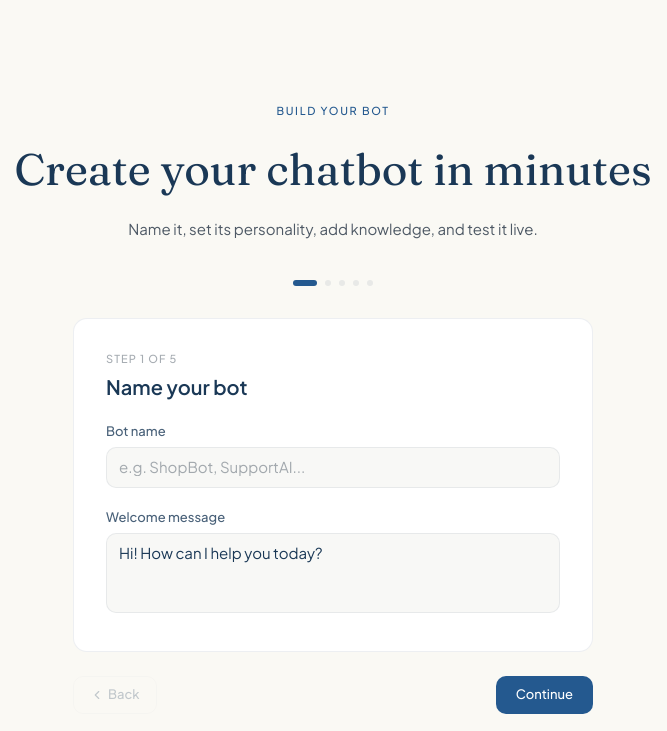
Scenario: LandingWizard new user signup flow › renders signup form on step 5 for new users
This screenshot has width=667, height=731.
Type "TestBot" into the field with placeholder "e.g. ShopBot, SupportAI...". click: coordinates (333, 467)
box: [106, 447, 560, 488]
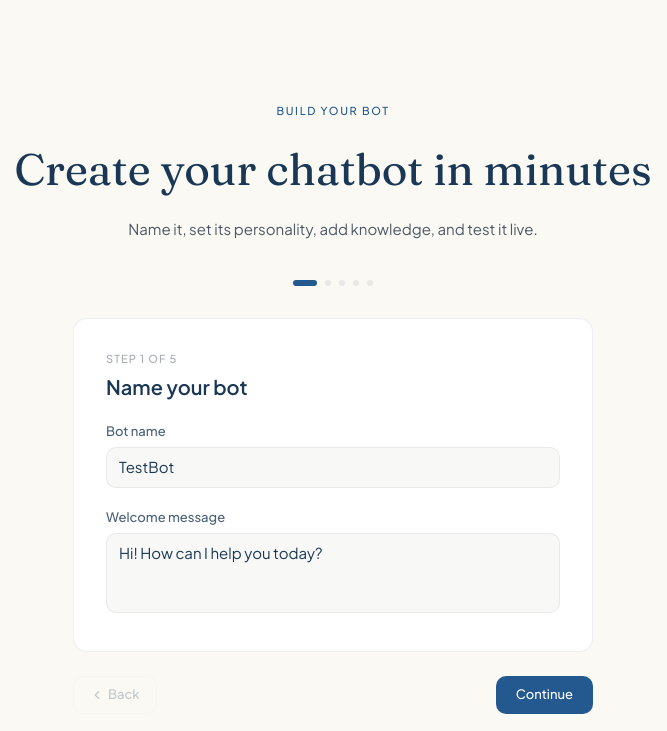
Click the button "Continue". click: coordinates (544, 695)
box: [496, 676, 593, 714]
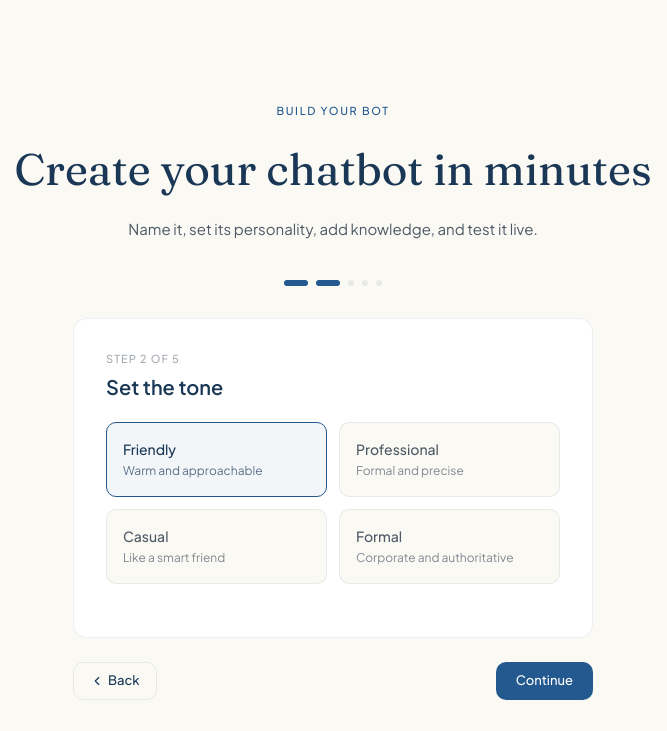
Click the button "Continue". click: coordinates (544, 681)
box: [496, 662, 593, 700]
(page scrolled)
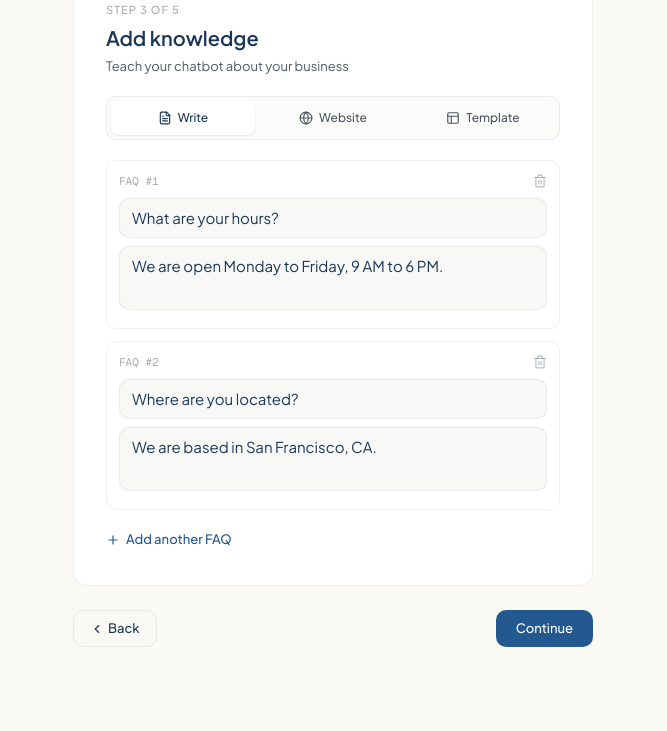
Click the button "Continue". click: coordinates (544, 629)
box: [496, 610, 593, 647]
(page scrolled)
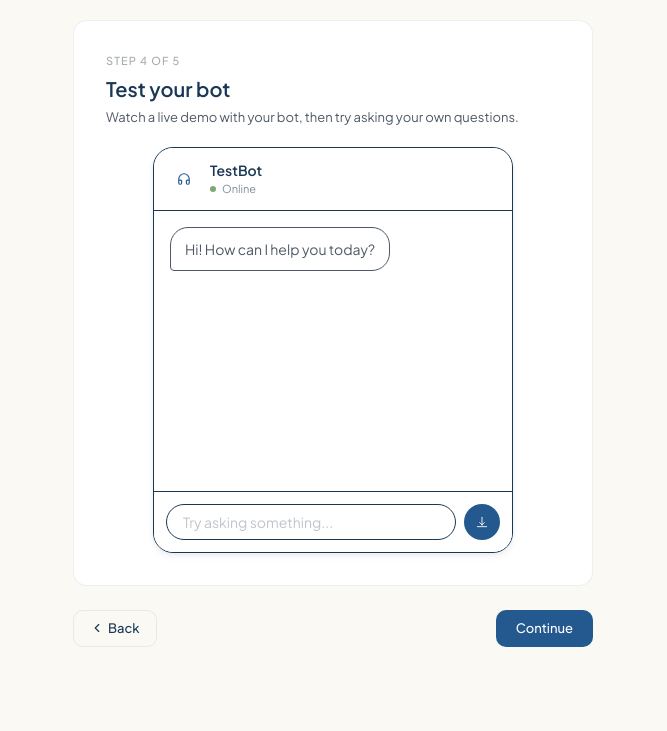
Click the button "Continue". click: coordinates (544, 628)
box: [496, 610, 593, 647]
(page scrolled)
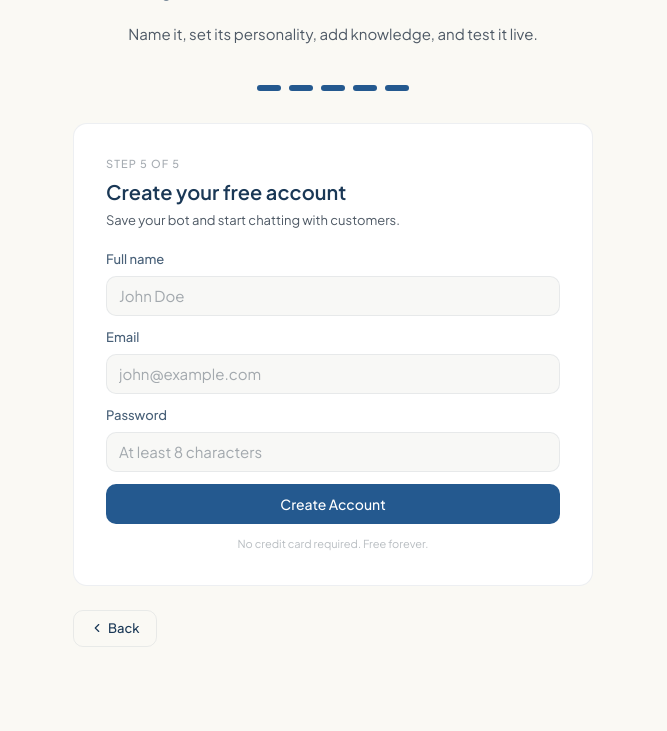
Now the heading "Create your free account" is shown, box [106, 178, 346, 204]
Now the button "Create Account" is shown, box [106, 484, 560, 524]
